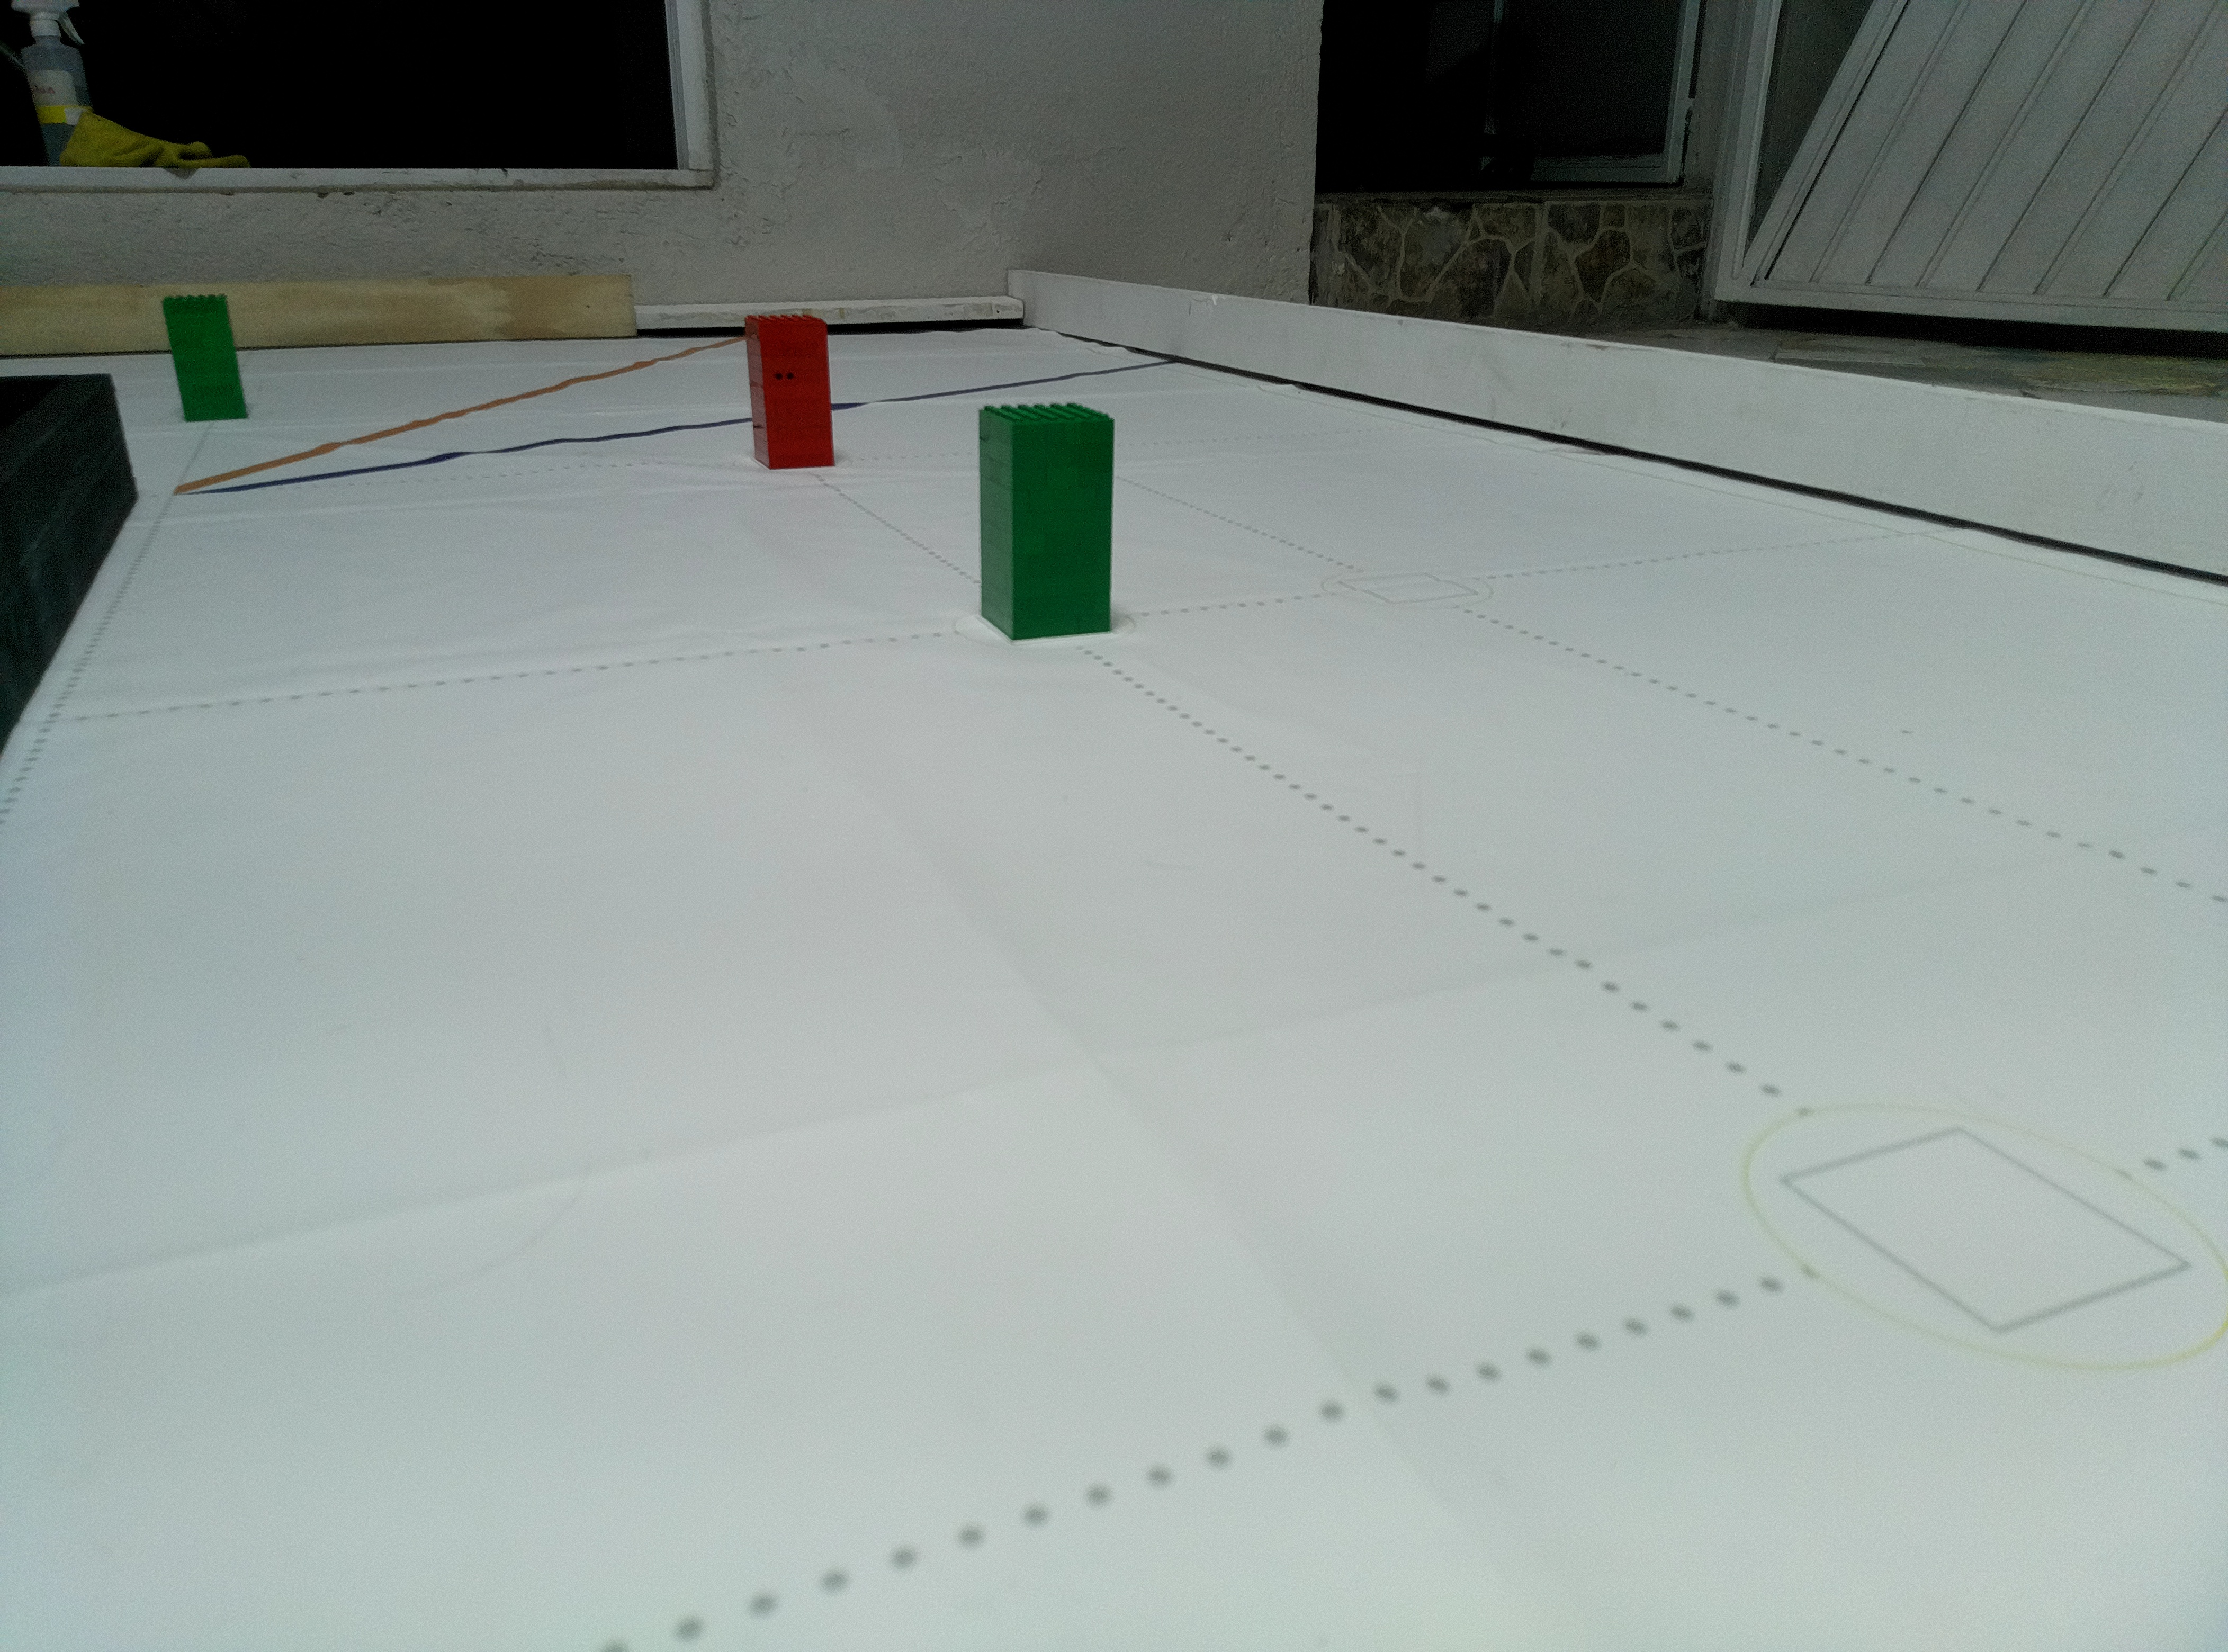greenbox: (977, 401, 1116, 642), (160, 293, 248, 425)
redbox: (743, 312, 838, 474)
